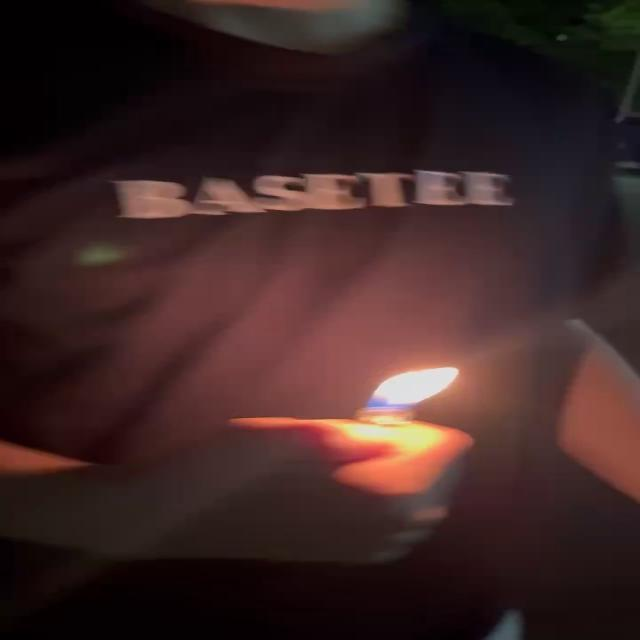Fire: (361, 363, 464, 413)
